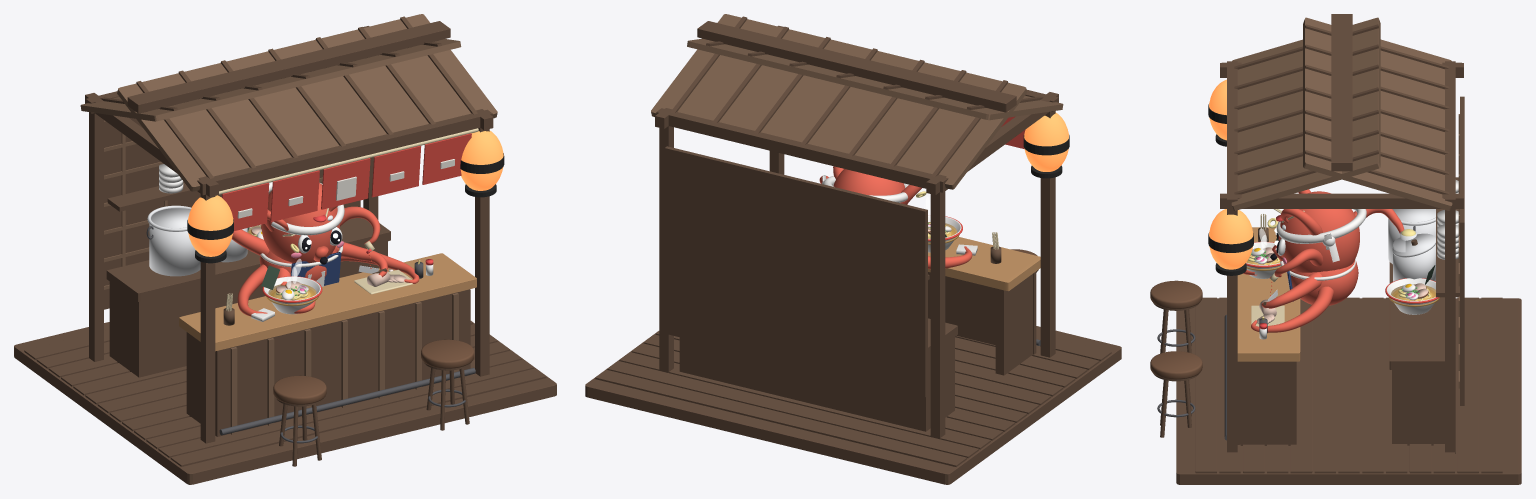
File: octopus_chef_ramen_booth.glb
3 renders of one model, left to right at view 1: azimuth 30°, elevation 25°; view 2: azimuth 150°, elevation 25°; view 3: azimuth 270°, elevation 25°, orthographic. The views are drawn at different scales.
Parts seen in each view (by area): view 1: Roof_Front_Slope, Counter_Front_Panel, Floor_Deck, Counter_Top, Back_Counter_Base, Roof_Ridge_Cap, Back_Lattice_Frame, Top_Beam_X_-0.68, Roof_Back_Slope, Floor_Plank_-6, Back_Counter_Top, Pillar_-1.30_1.15 (+40 smaller); view 2: Back_Lattice_Frame, Roof_Back_Slope, Floor_Deck, Back_Counter_Base, Roof_Ridge_Cap, Floor_Plank_6, Floor_Plank_5, Top_Beam_X_1.15, Roof_Front_Slope, Pillar_-1.30_1.15, Counter_Front_Panel, Counter_Side_Leg_-1.15 (+17 smaller); view 3: Floor_Deck, Roof_Front_Slope, Roof_Back_Slope, Counter_Side_Leg_1.15, Counter_Top, Back_Counter_Base, Floor_Plank_1, Floor_Plank_6, Floor_Plank_0, Floor_Plank_-6, Floor_Plank_-1, Back_Counter_Top (+47 smaller).
Boxes of the visible parts, bbox=[...] form: Roof_Front_Slope: bbox=[117, 14, 497, 191]; Counter_Front_Panel: bbox=[215, 289, 470, 436]; Floor_Deck: bbox=[14, 321, 556, 484]; Counter_Top: bbox=[179, 253, 476, 351]; Back_Counter_Base: bbox=[109, 241, 387, 377]; Roof_Ridge_Cap: bbox=[127, 21, 450, 113]; Back_Lattice_Frame: bbox=[104, 118, 360, 309]; Top_Beam_X_-0.68: bbox=[197, 109, 492, 195]; Roof_Back_Slope: bbox=[80, 39, 461, 121]; Floor_Plank_-6: bbox=[170, 368, 546, 466]; Back_Counter_Top: bbox=[106, 218, 390, 301]; Pillar_-1.30_1.15: bbox=[89, 112, 103, 361]; Back_Lattice_Frame: bbox=[664, 146, 927, 397]; Roof_Back_Slope: bbox=[651, 14, 1027, 189]; Floor_Deck: bbox=[585, 326, 1121, 484]; Back_Counter_Base: bbox=[679, 337, 954, 431]; Roof_Ridge_Cap: bbox=[697, 21, 1016, 112]; Floor_Plank_6: bbox=[595, 369, 966, 466]; Floor_Plank_5: bbox=[607, 361, 978, 458]; Top_Beam_X_1.15: bbox=[656, 108, 948, 192]; Roof_Front_Slope: bbox=[687, 38, 1063, 120]; Pillar_-1.30_1.15: bbox=[930, 191, 945, 439]; Counter_Front_Panel: bbox=[928, 271, 1036, 354]; Counter_Side_Leg_-1.15: bbox=[995, 274, 1032, 375]; Floor_Deck: bbox=[1176, 298, 1521, 484]; Roof_Front_Slope: bbox=[1231, 17, 1380, 210]; Roof_Back_Slope: bbox=[1303, 17, 1452, 210]; Counter_Side_Leg_1.15: bbox=[1239, 361, 1296, 445]; Counter_Top: bbox=[1237, 227, 1300, 361]; Back_Counter_Base: bbox=[1392, 370, 1444, 445]; Floor_Plank_1: bbox=[1362, 297, 1383, 473]; Floor_Plank_6: bbox=[1481, 297, 1502, 473]; Floor_Plank_0: bbox=[1338, 297, 1359, 473]; Floor_Plank_-6: bbox=[1195, 297, 1216, 473]; Floor_Plank_-1: bbox=[1314, 304, 1335, 473]; Back_Counter_Top: bbox=[1389, 262, 1444, 369].
Size of the model in its own units: 3.5 by 2.86 by 3.12.
